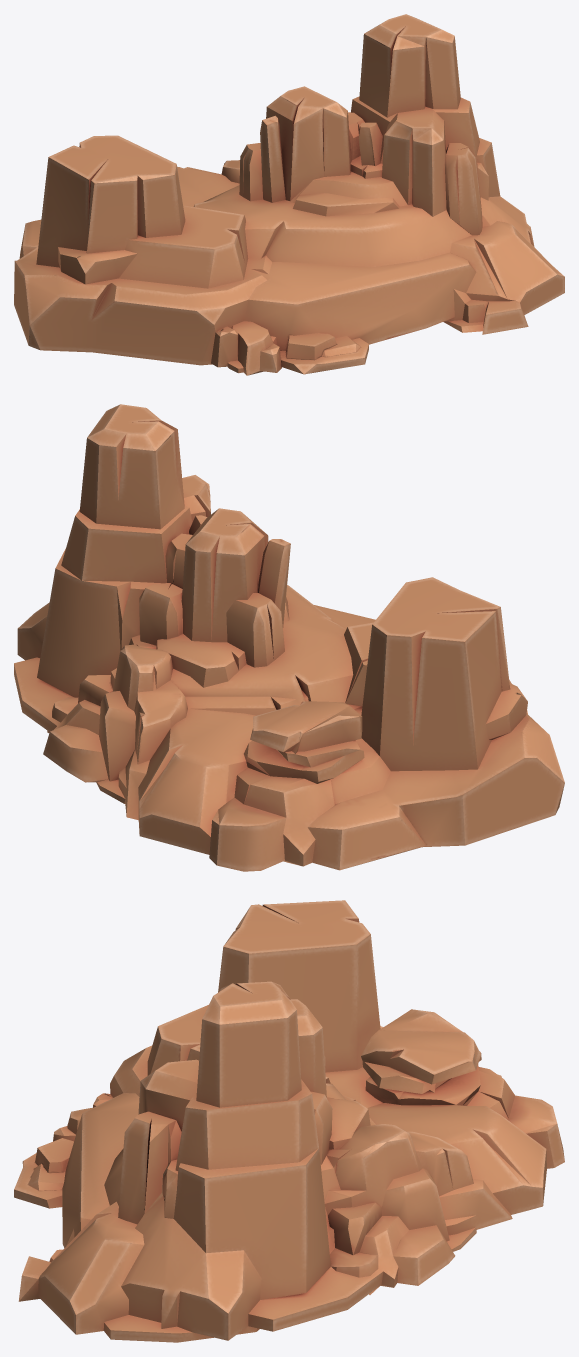
File: desert_monolith_01.glb
The picture shows the model from 3 angles, top to bottom: view 1: azimuth 30°, elevation 25°; view 2: azimuth 150°, elevation 25°; view 3: azimuth 270°, elevation 25°; orthographic projection. The views are drawn at different scales.
Visible parts, largest first — view 1: Rock_1_Rock_1_0; view 2: Rock_1_Rock_1_0; view 3: Rock_1_Rock_1_0.
Boxes of the visible parts, box(x1,y1,x2,y2) form: Rock_1_Rock_1_0: box(14, 14, 564, 375); Rock_1_Rock_1_0: box(14, 404, 564, 871); Rock_1_Rock_1_0: box(14, 900, 564, 1342).
Size of the model in its own units: 7.7 by 3.8 by 6.24.
Materials: 1 (1 with a texture image).
